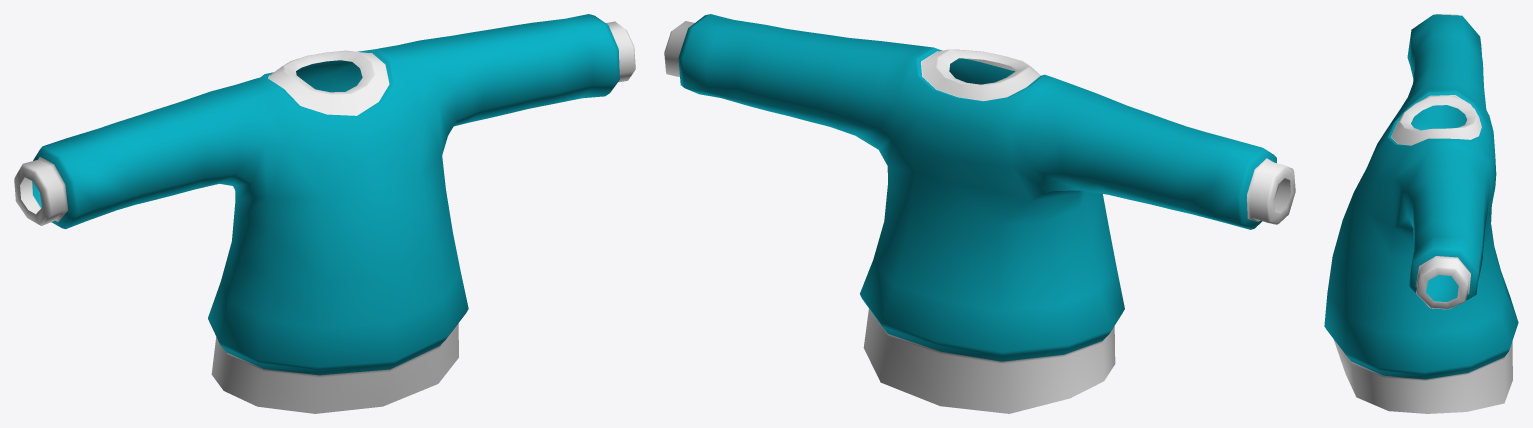
Rendered from Outerwear_Light_Blue_004.glb.
3 views of the same model, side by side, from view 1: azimuth 30°, elevation 25°; view 2: azimuth 150°, elevation 25°; view 3: azimuth 270°, elevation 25° (orthographic). The views are drawn at different scales.
Parts seen in each view (by area): view 1: Outerwear_Light_Blue_004; view 2: Outerwear_Light_Blue_004; view 3: Outerwear_Light_Blue_004.
Boxes of the visible parts, bbox=[...] form: Outerwear_Light_Blue_004: bbox=[14, 14, 635, 413]; Outerwear_Light_Blue_004: bbox=[664, 14, 1295, 413]; Outerwear_Light_Blue_004: bbox=[1324, 14, 1518, 413].
Size of the model in its own units: 1.29 by 0.637 by 0.4186.
Materials: 1 (1 with a texture image).
